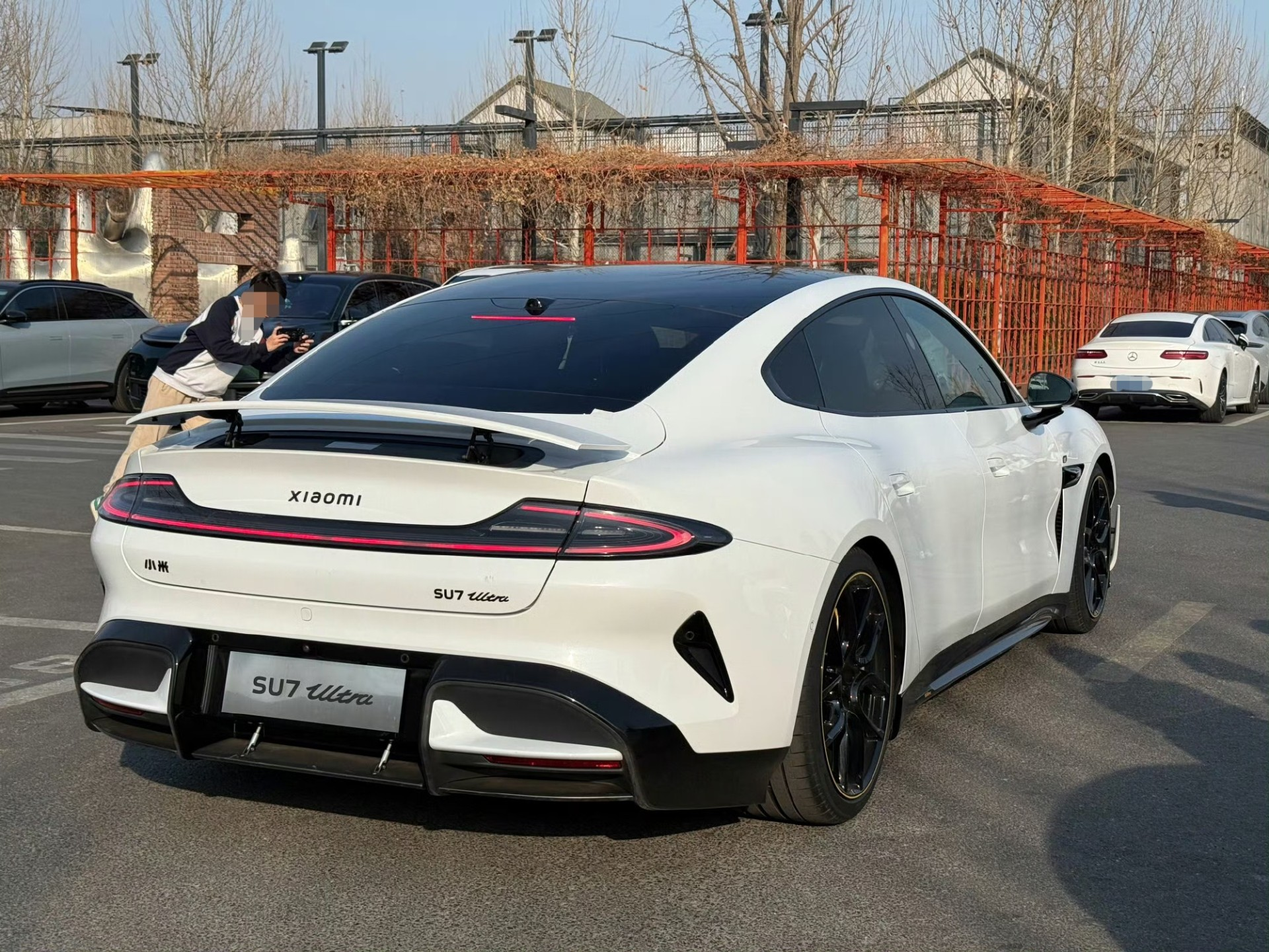other: (1071, 311, 1263, 411)
su7: (91, 241, 1125, 840)
